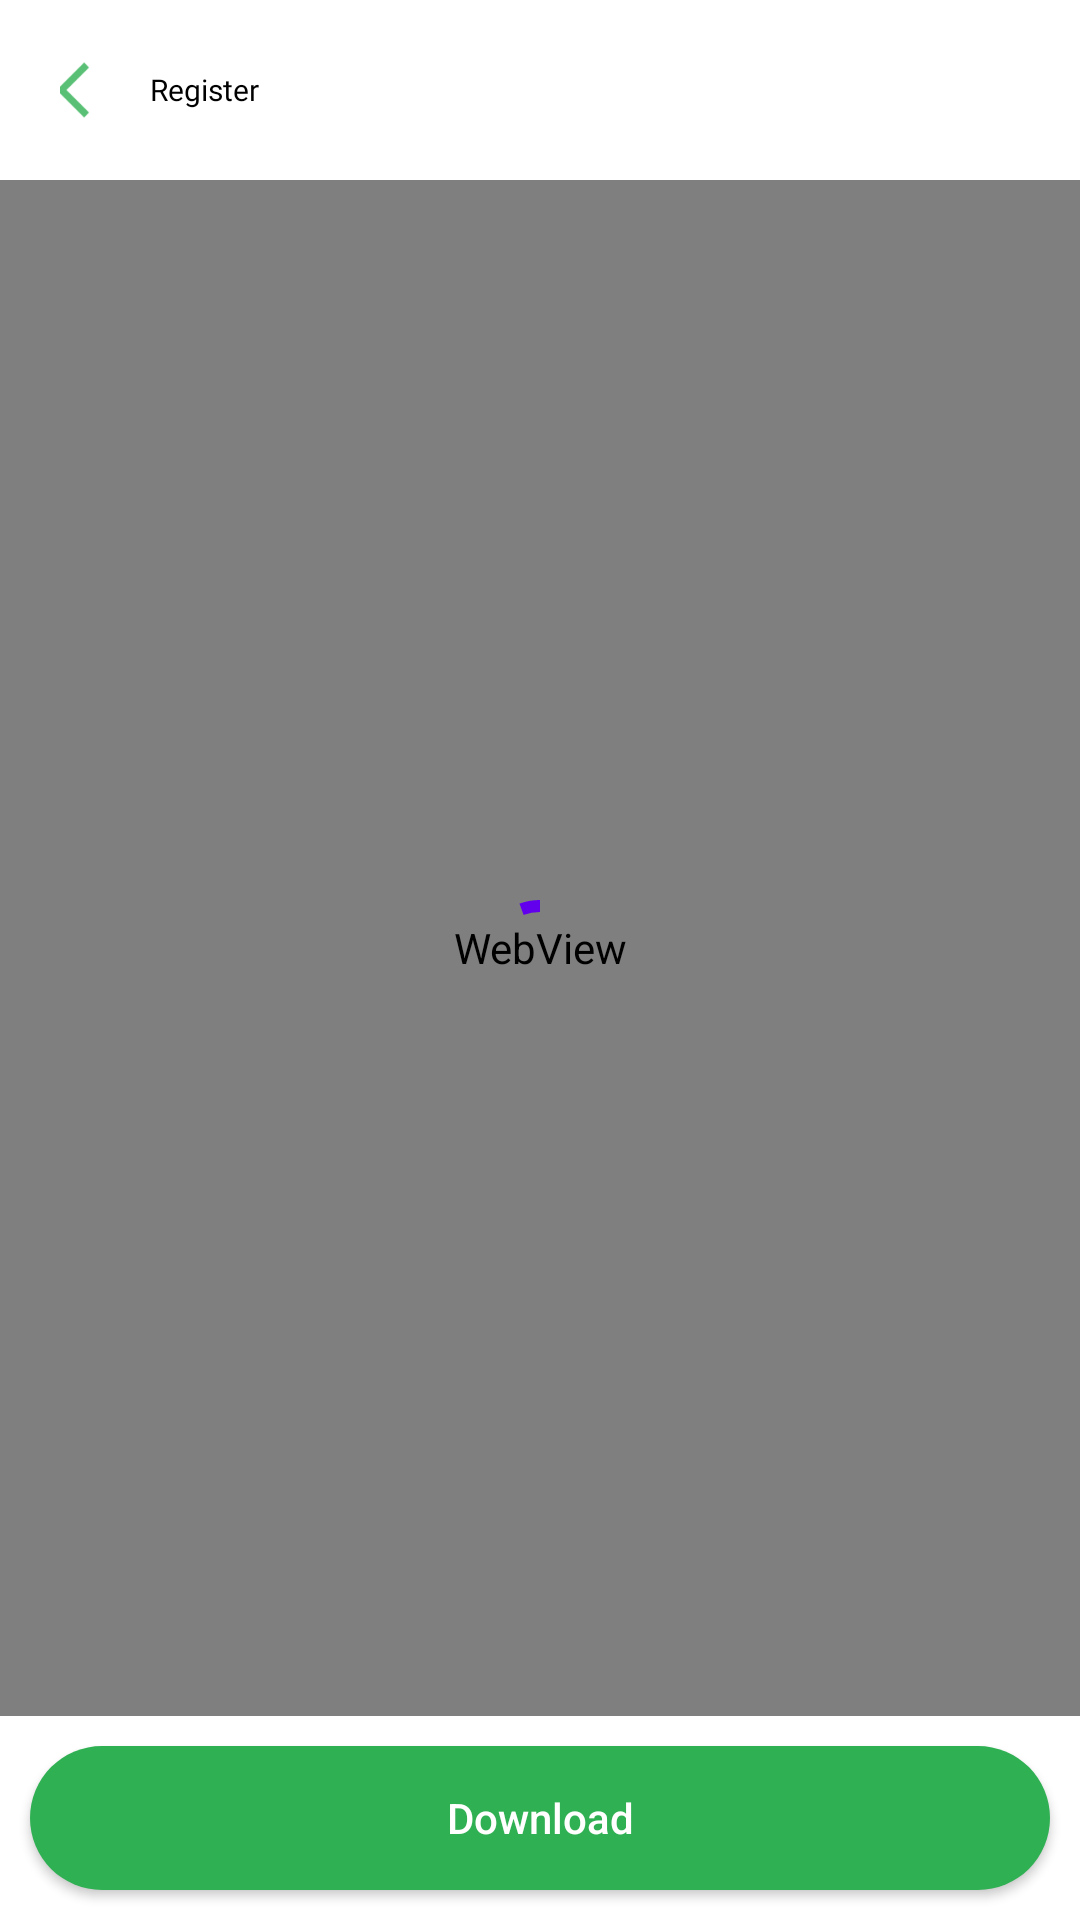

Screen size 1080w x 1920h. Icon name, then its box in pixels as [x1=x1, y1=y1, x2=x2, y2=y2]:
back arrow: [x1=60, y1=62, x2=89, y2=118]
